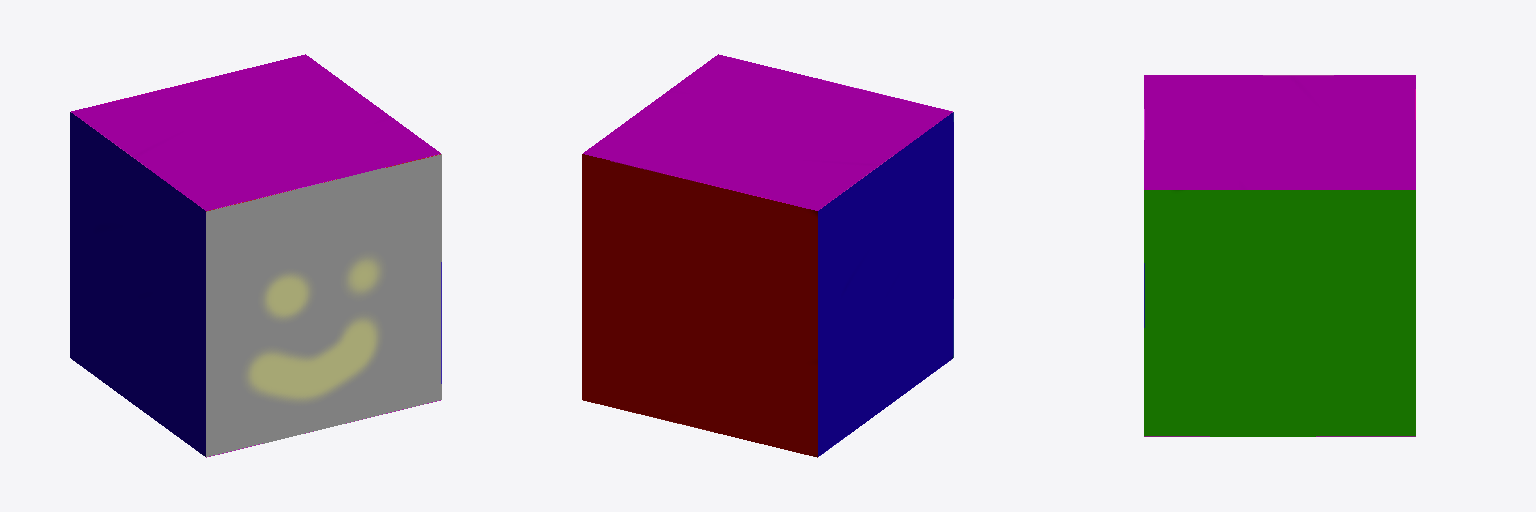
3 views of the same model, side by side, from view 1: azimuth 30°, elevation 25°; view 2: azimuth 150°, elevation 25°; view 3: azimuth 270°, elevation 25° (orthographic).
Parts seen in each view (by area): view 1: Cube_Cube.001; view 2: Cube_Cube.001; view 3: Cube_Cube.001.
Part boxes in pixels (bbox=[...]): Cube_Cube.001: bbox=[70, 54, 441, 457]; Cube_Cube.001: bbox=[582, 54, 953, 457]; Cube_Cube.001: bbox=[1144, 75, 1415, 436].
Size of the model in its own units: 2 by 2 by 2.
Materials: 1 (1 with a texture image).